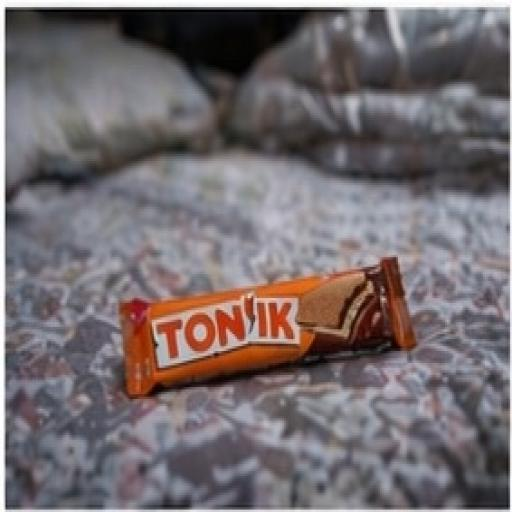tonik: (64, 158, 468, 458)
